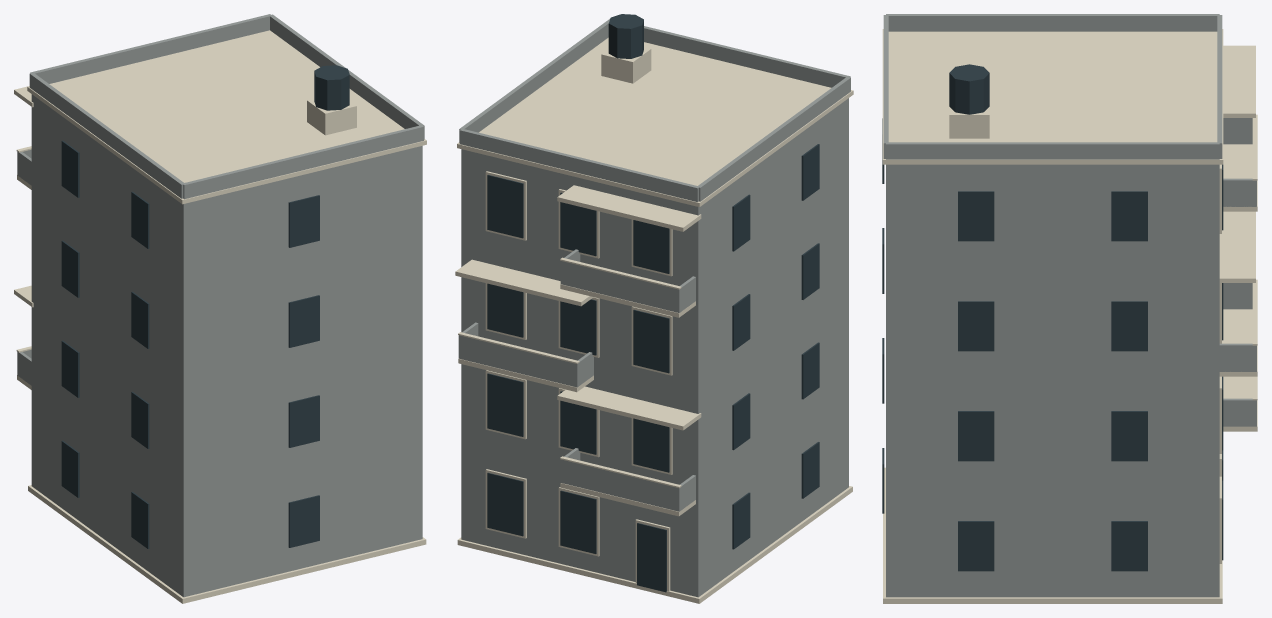
The model's file is KOL_T3_MOD_08.fbx.
The picture shows the model from 3 angles, left to right: view 1: azimuth 30°, elevation 25°; view 2: azimuth 150°, elevation 25°; view 3: azimuth 270°, elevation 25°; orthographic projection. The views are drawn at different scales.
Parts seen in each view (by area): view 1: KOL_T3_MOD_08__Body, KOL_T3_MOD_08__Trim, KOL_T3_MOD_08__Dark; view 2: KOL_T3_MOD_08__Body, KOL_T3_MOD_08__Trim, KOL_T3_MOD_08__Dark; view 3: KOL_T3_MOD_08__Body, KOL_T3_MOD_08__Trim, KOL_T3_MOD_08__Dark.
Part boxes in pixels (x1,y1,x2,y2): KOL_T3_MOD_08__Body: (17, 14, 424, 597); KOL_T3_MOD_08__Trim: (14, 30, 426, 603); KOL_T3_MOD_08__Dark: (61, 65, 349, 548); KOL_T3_MOD_08__Body: (458, 19, 850, 597); KOL_T3_MOD_08__Trim: (455, 37, 853, 603); KOL_T3_MOD_08__Dark: (487, 14, 819, 592); KOL_T3_MOD_08__Body: (883, 14, 1256, 597); KOL_T3_MOD_08__Trim: (882, 29, 1257, 603); KOL_T3_MOD_08__Dark: (882, 64, 1223, 571).
Size of the model in its own units: 30.74 by 54.75 by 37.12.
